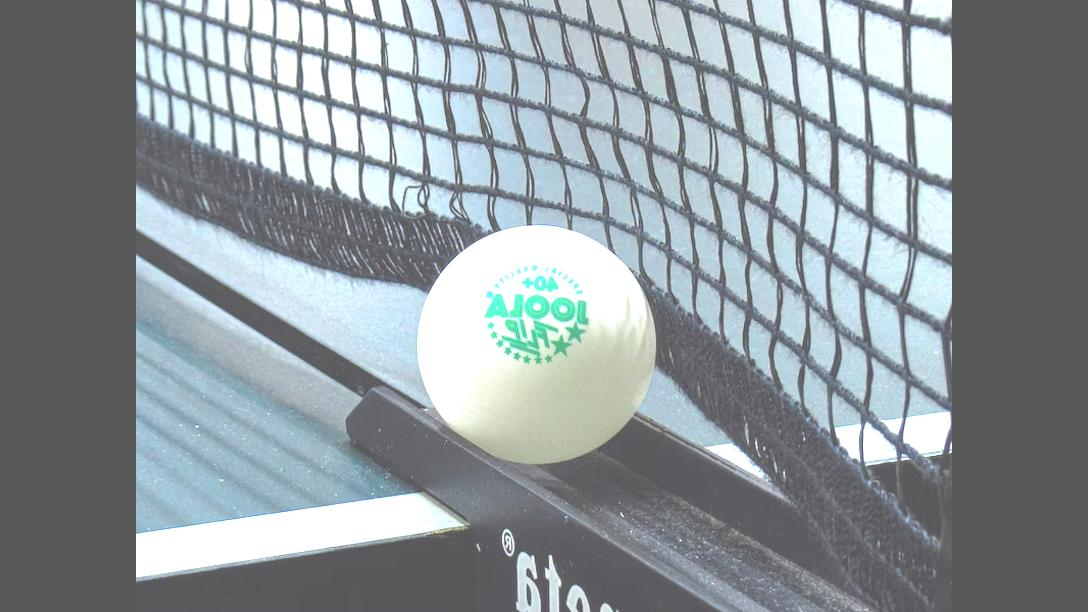Table-Tennis-Ball: (419, 225, 653, 460)
